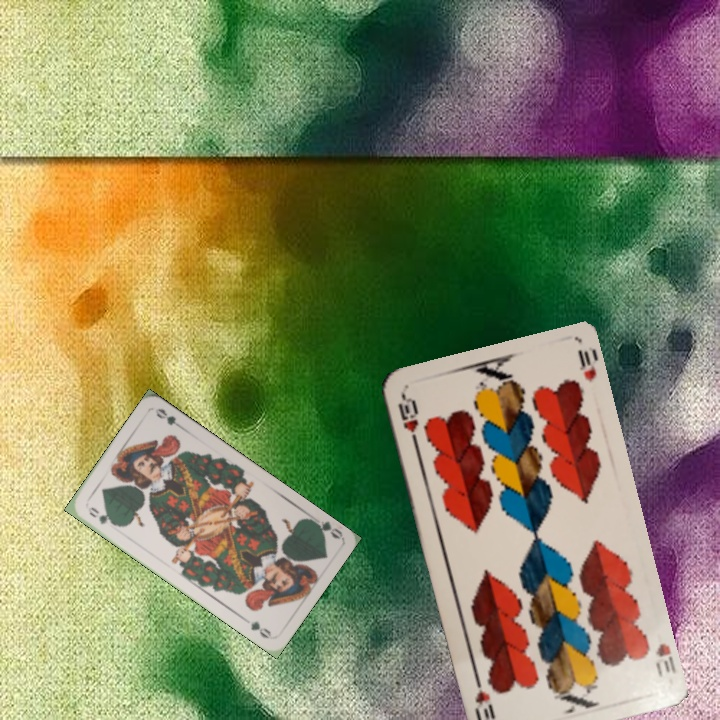GO: (305, 514, 345, 541), (84, 503, 120, 529)
H10: (393, 390, 421, 448), (651, 639, 677, 680)
